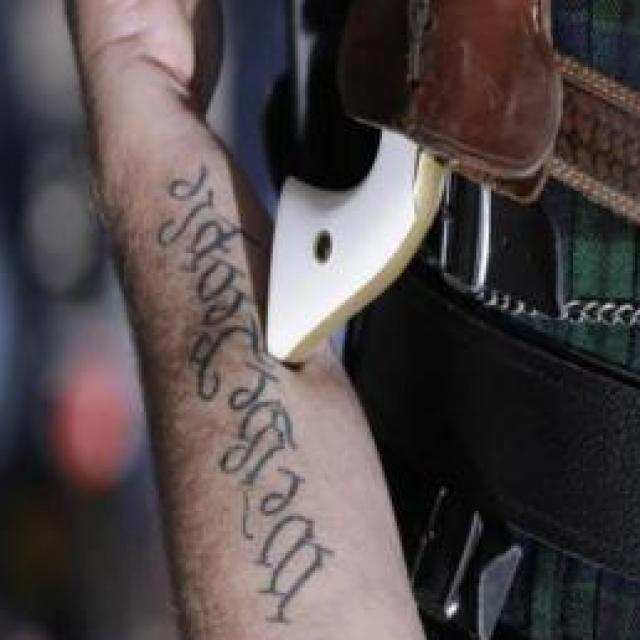pistol: (258, 0, 578, 357)
